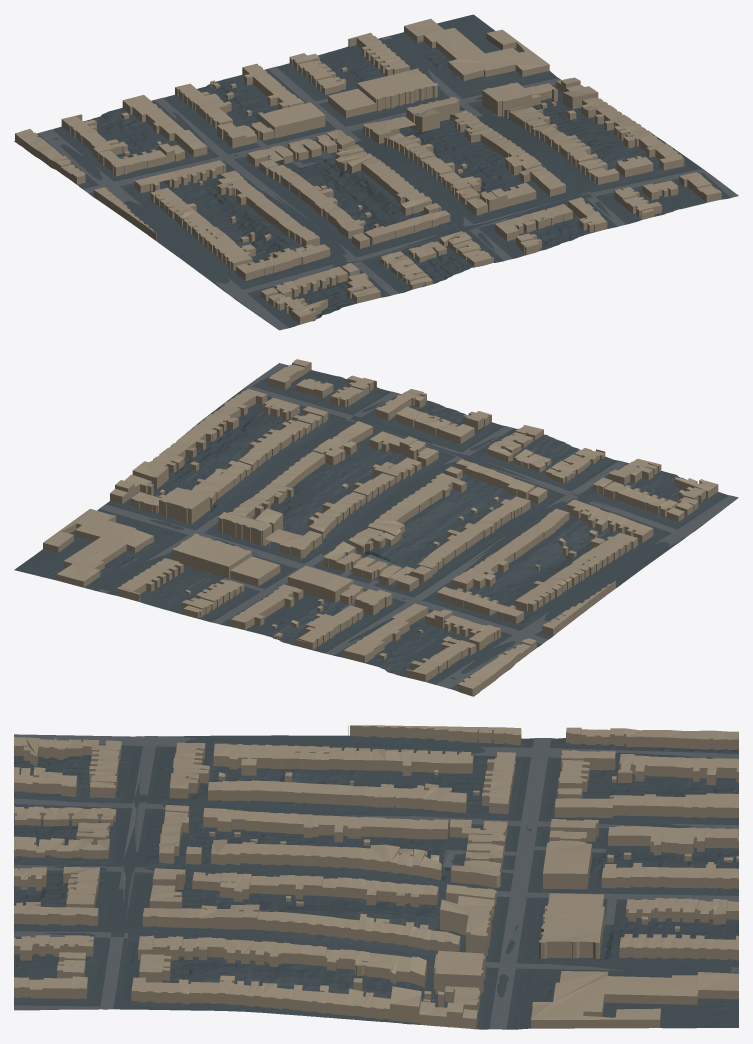
Rendered from epsg26910-1416-10877.lod0.glb.
3 renders of one model, top to bottom at view 1: azimuth 30°, elevation 25°; view 2: azimuth 150°, elevation 25°; view 3: azimuth 270°, elevation 25°, orthographic. The views are drawn at different scales.
Parts seen in each view (by area): view 1: epsg26910-1416-10877-lod0; view 2: epsg26910-1416-10877-lod0; view 3: epsg26910-1416-10877-lod0.
Boxes of the visible parts, x1=… form: epsg26910-1416-10877-lod0: x1=14, y1=14, x2=738, y2=330; epsg26910-1416-10877-lod0: x1=14, y1=359, x2=738, y2=696; epsg26910-1416-10877-lod0: x1=14, y1=725, x2=738, y2=1029.
Size of the model in its own units: 384 by 28.89 by 384.
